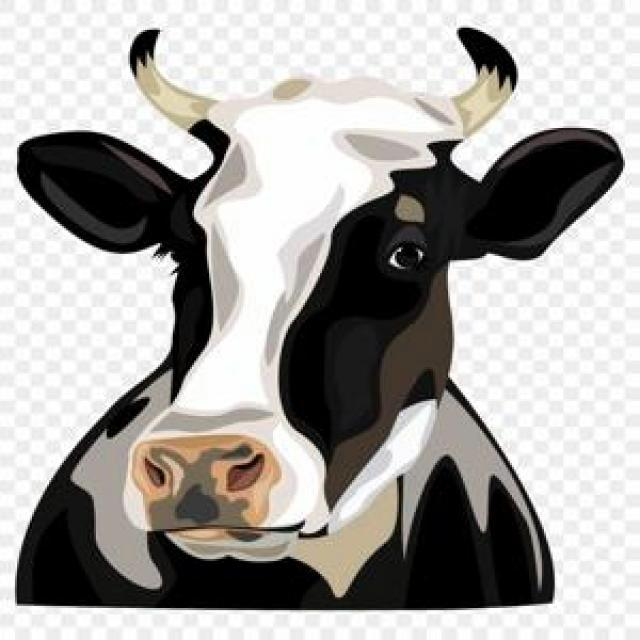cow: (18, 28, 622, 608)
